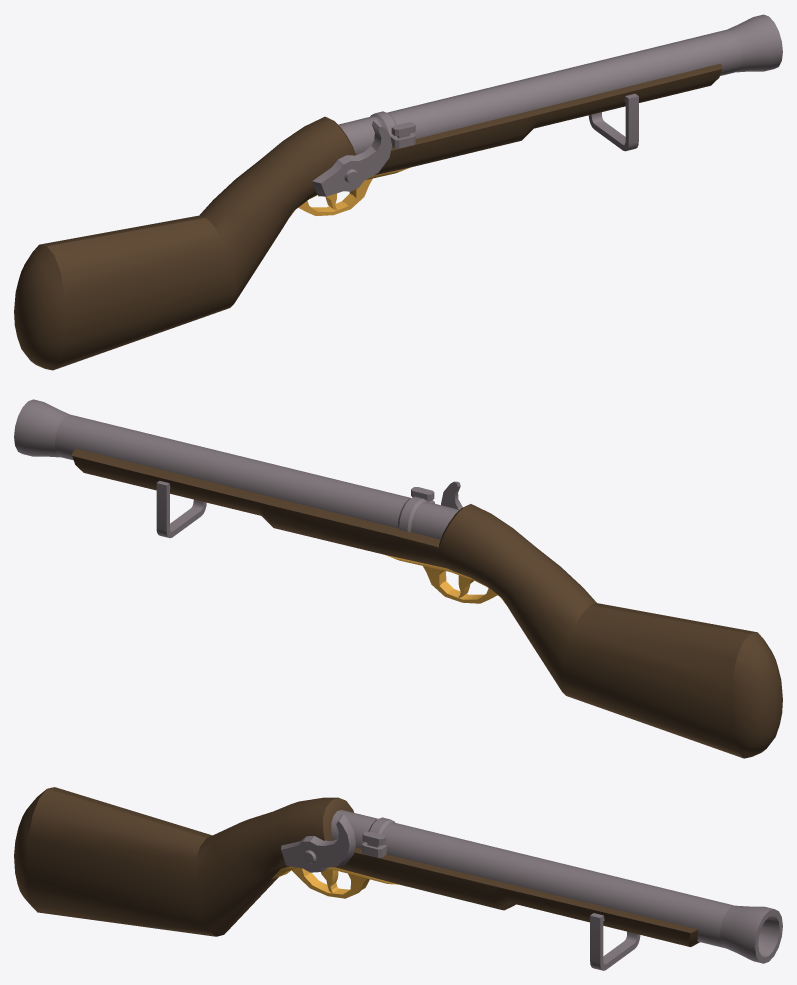
File: Rifle.glb
3 views of the same model, one above another, from view 1: azimuth 30°, elevation 25°; view 2: azimuth 150°, elevation 25°; view 3: azimuth 330°, elevation 25° (orthographic).
Visible parts, largest first — view 1: Weapon_Rifle; view 2: Weapon_Rifle; view 3: Weapon_Rifle.
Part boxes in pixels (x1,y1,x2,y2): Weapon_Rifle: [14, 14, 782, 370]; Weapon_Rifle: [14, 399, 782, 758]; Weapon_Rifle: [14, 787, 782, 970].
Bounding box in the file's own units: 2.9 × 0.6856 × 0.285.
Materials: 1 (1 with a texture image).
